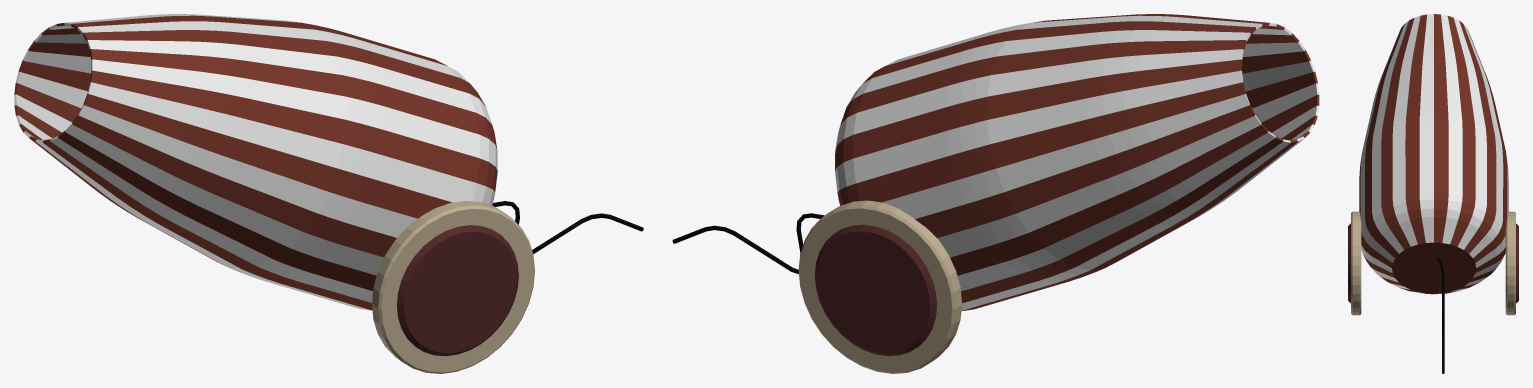
File: Canon.fbx
3 renders of one model, left to right at view 1: azimuth 30°, elevation 25°; view 2: azimuth 150°, elevation 25°; view 3: azimuth 270°, elevation 25°, orthographic. The views are drawn at different scales.
Parts seen in each view (by area): view 1: Circle, Circle.002, Plane; view 2: Circle, Circle.002, Plane; view 3: Circle, Circle.002, Plane.
Boxes of the visible parts, bbox=[...] form: Circle: bbox=[14, 14, 497, 310]; Circle.002: bbox=[372, 201, 534, 373]; Plane: bbox=[492, 201, 643, 253]; Circle: bbox=[835, 14, 1319, 311]; Circle.002: bbox=[798, 200, 961, 373]; Plane: bbox=[672, 213, 824, 273]; Circle: bbox=[1359, 14, 1508, 294]; Circle.002: bbox=[1348, 211, 1518, 315]; Plane: bbox=[1437, 257, 1444, 373].
Size of the model in its own units: 744 by 420 by 309.
